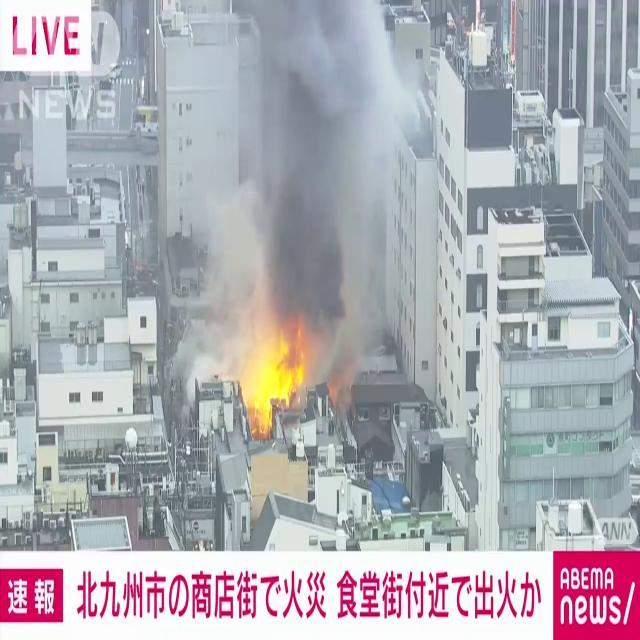Fire: (238, 316, 312, 432)
Smoke: (200, 0, 417, 363)
